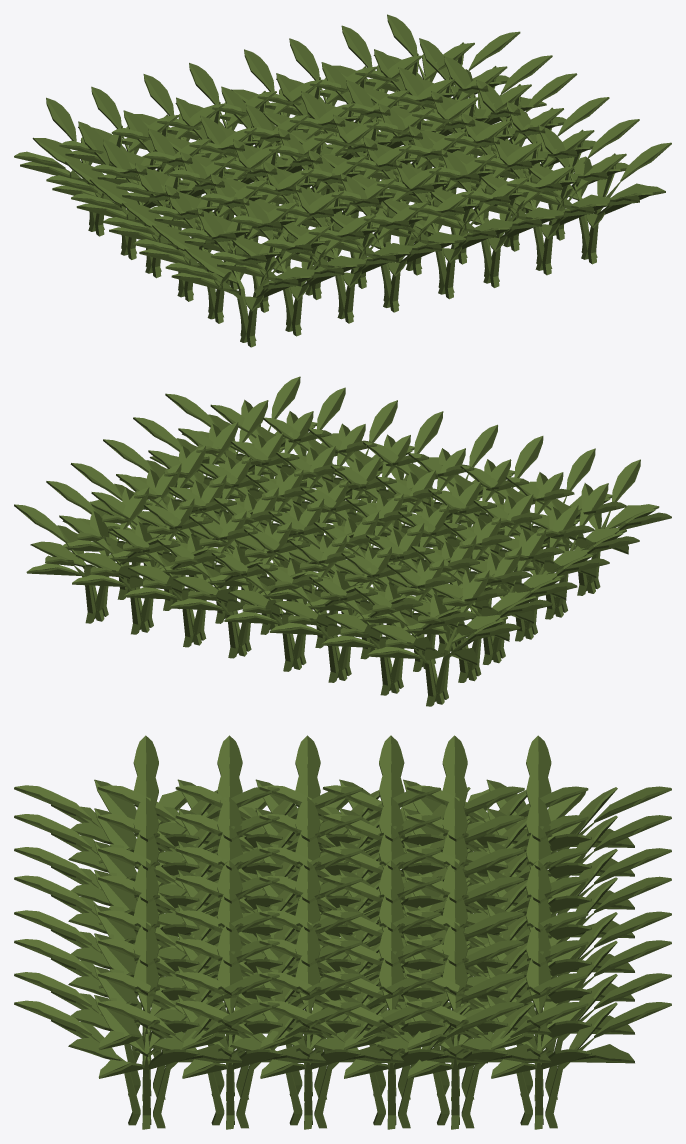
File: SM_Plants_02.fbx
The picture shows the model from 3 angles, top to bottom: view 1: azimuth 30°, elevation 25°; view 2: azimuth 150°, elevation 25°; view 3: azimuth 270°, elevation 25°; orthographic projection. The views are drawn at different scales.
Visible parts, largest first — view 1: Plantas; view 2: Plantas; view 3: Plantas.
Part boxes in pixels (x1,y1,x2,y2): Plantas: (14,14,671,347); Plantas: (14,376,671,706); Plantas: (14,735,671,1129).
Size of the model in its own units: 5.15 by 0.9218 by 4.47.
